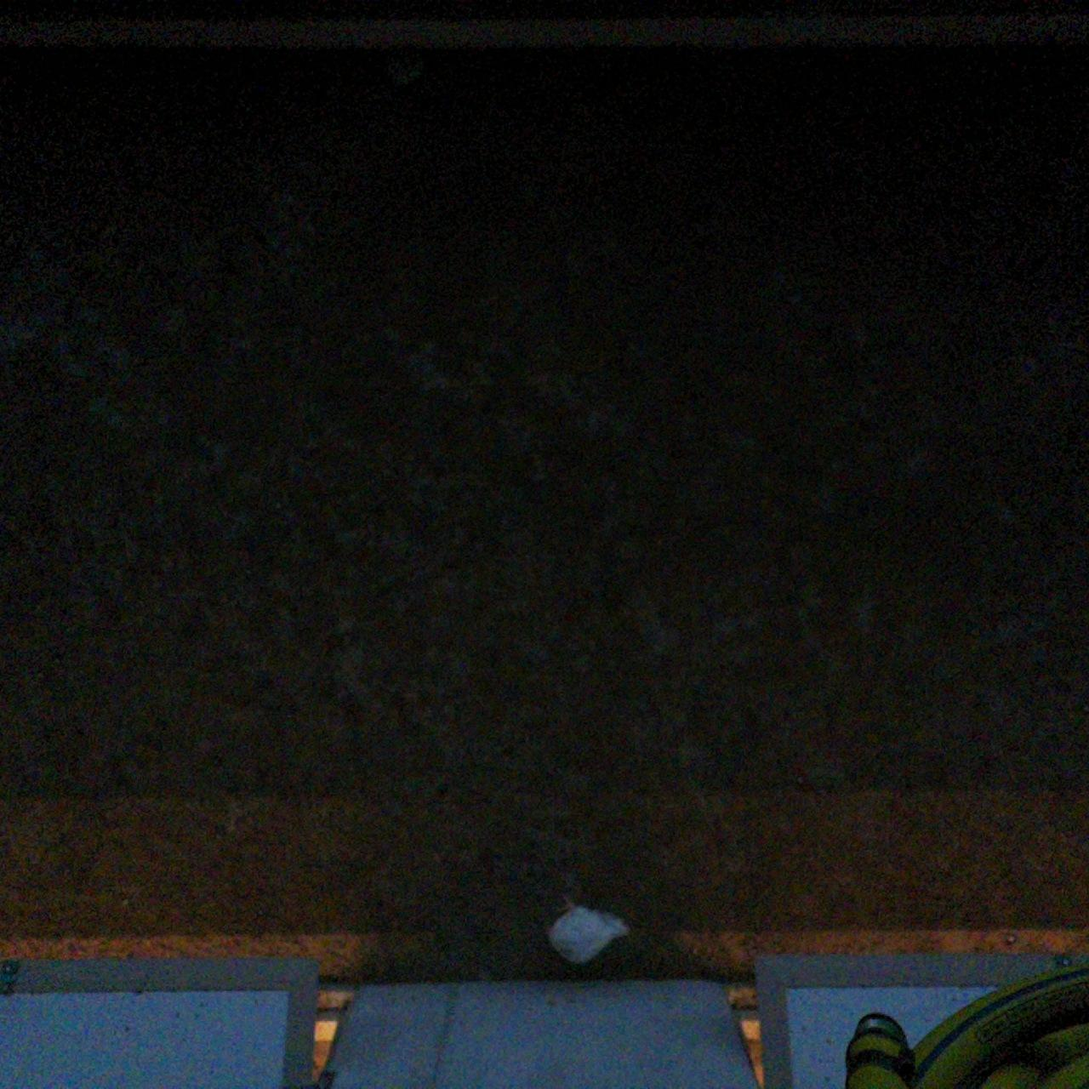chicken: (539, 888, 635, 969)
